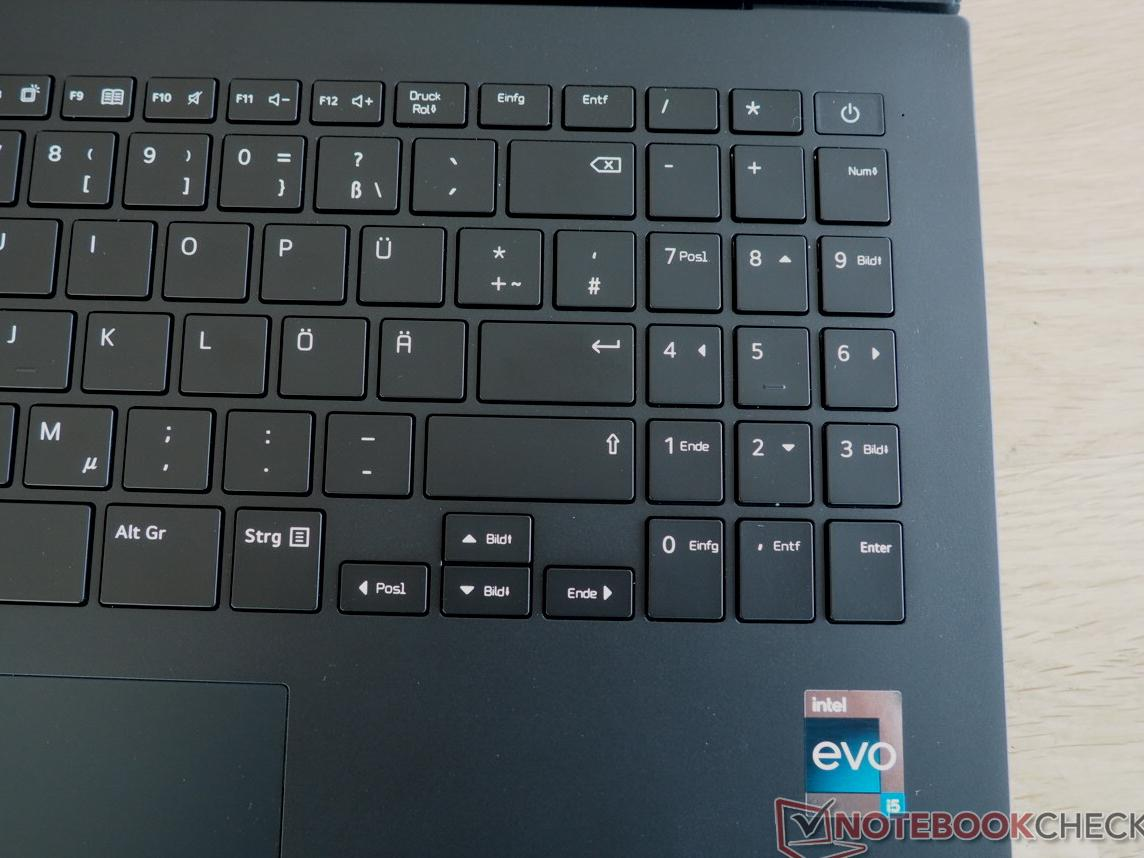0: (215, 128, 307, 209)
7: (1, 124, 45, 202)
8: (24, 125, 115, 205)
9: (120, 126, 211, 206)
accent: (407, 130, 495, 211)
ae: (372, 312, 465, 398)
altgr-right: (95, 499, 223, 611)
comma: (120, 400, 215, 487)
del: (504, 133, 636, 215)
enter: (473, 315, 637, 403)
h: (1, 301, 47, 386)
hash: (550, 223, 636, 308)
i: (62, 213, 153, 295)
j: (1, 302, 72, 389)
k: (77, 305, 170, 391)
keyboard: (1, 22, 930, 657)
l: (176, 307, 267, 394)
m: (17, 398, 114, 488)
minus: (319, 406, 413, 494)
n: (1, 396, 48, 484)
o: (157, 215, 250, 299)
oe: (274, 310, 367, 397)
p: (255, 217, 347, 301)
plus: (453, 221, 543, 304)
point: (220, 403, 315, 490)
shift-right: (419, 408, 635, 500)
space: (1, 493, 106, 607)
ss: (310, 129, 400, 211)
strg-right: (226, 502, 326, 613)
u: (1, 211, 58, 295)
ue: (353, 219, 445, 304)
z: (1, 208, 41, 292)
